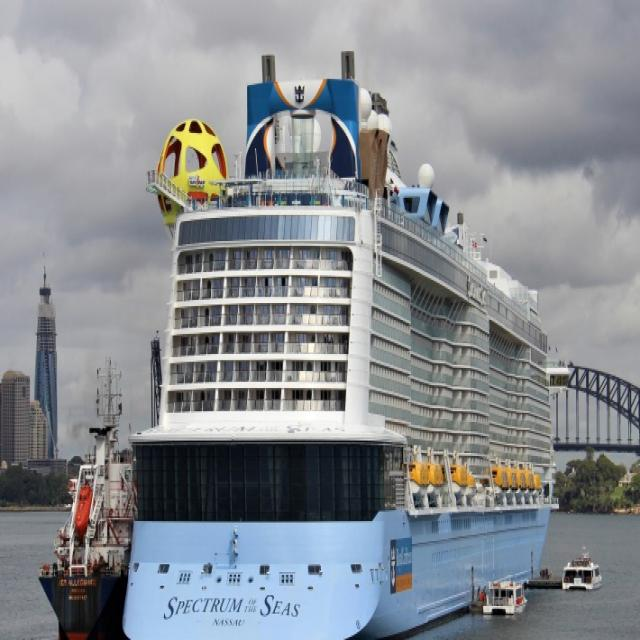cruises: (118, 46, 564, 640)
